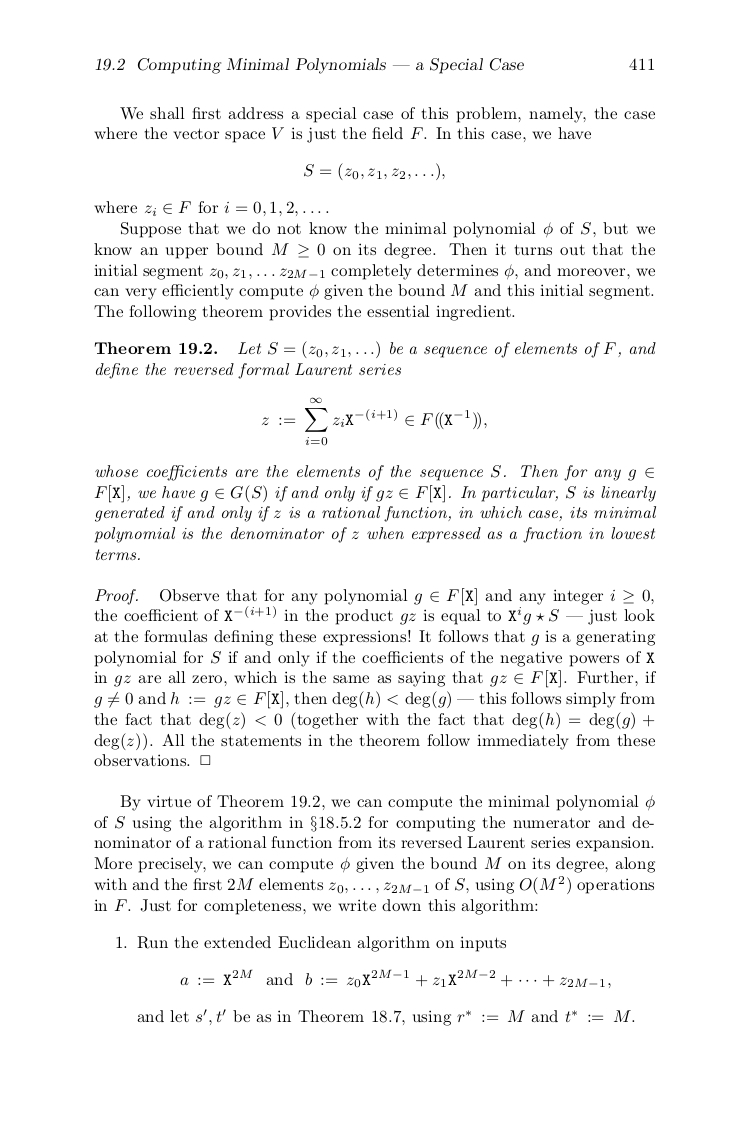formula: (261, 397, 486, 445), (180, 968, 610, 988), (304, 162, 444, 181)
